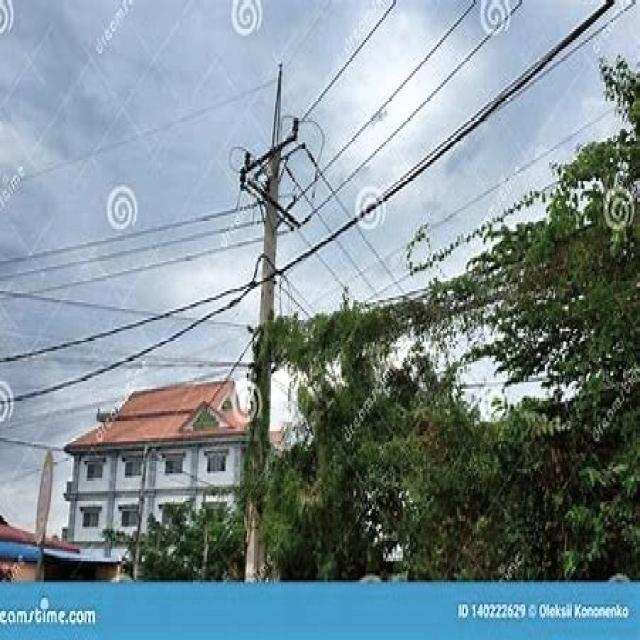critical vegetation: (260, 245, 638, 424)
